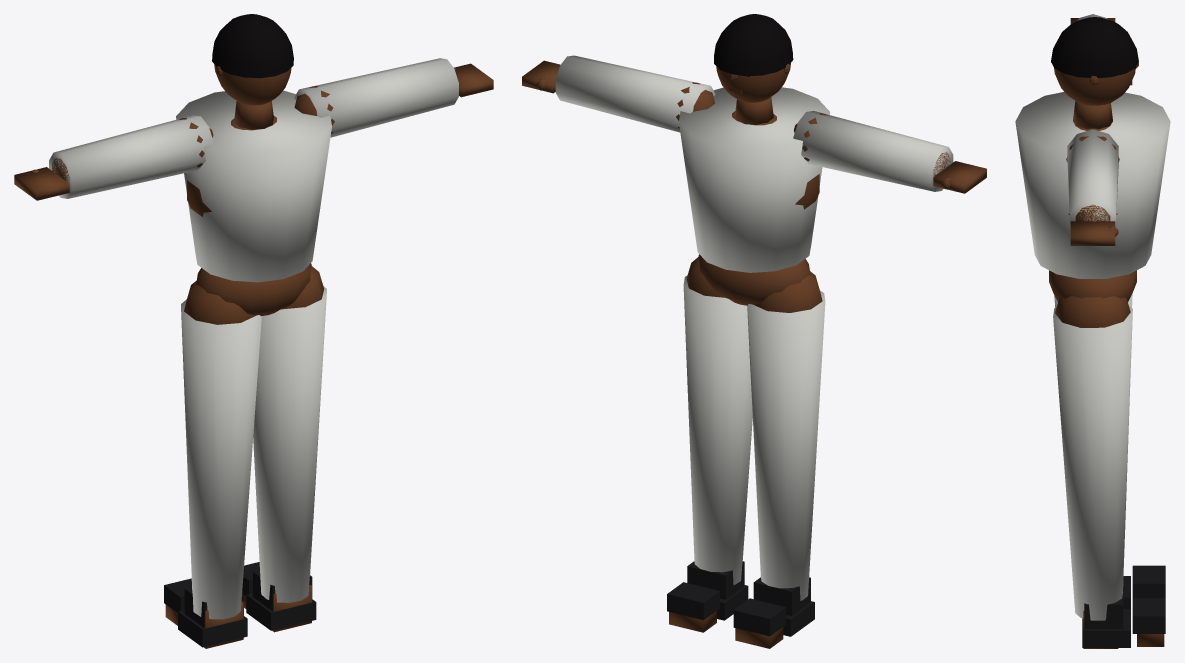
Rendered from Femi.obj.
3 views of the same model, side by side, from view 1: azimuth 30°, elevation 25°; view 2: azimuth 150°, elevation 25°; view 3: azimuth 270°, elevation 25° (orthographic). The views are drawn at different scales.
Parts seen in each view (by area): view 1: Femi, Femi_body, Femi_shoes, Femi_hair; view 2: Femi, Femi_body, Femi_shoes, Femi_hair; view 3: Femi, Femi_body, Femi_shoes, Femi_hair.
Part boxes in pixels (x1,y1,x2,y2): Femi: (49,58,458,619); Femi_body: (14,63,493,648); Femi_shoes: (164,562,316,647); Femi_hair: (212,14,293,78); Femi: (555,55,953,600); Femi_body: (522,60,986,648); Femi_shoes: (667,561,814,636); Femi_hair: (714,14,793,76); Femi: (1015,14,1170,620); Femi_body: (1049,18,1164,648); Femi_shoes: (1082,565,1165,647); Femi_hair: (1051,17,1138,78).
Bounding box in the file's own units: 1.34 × 1.72 × 0.4.
